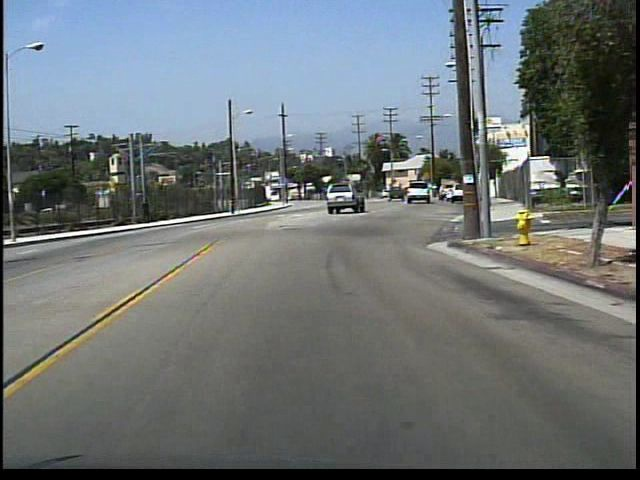person: (140, 193, 157, 224)
